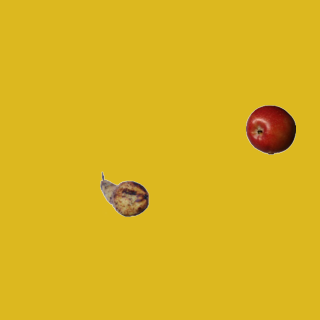Apple Braeburn: (245, 104, 295, 154)
Pear Abate: (99, 169, 149, 219)
